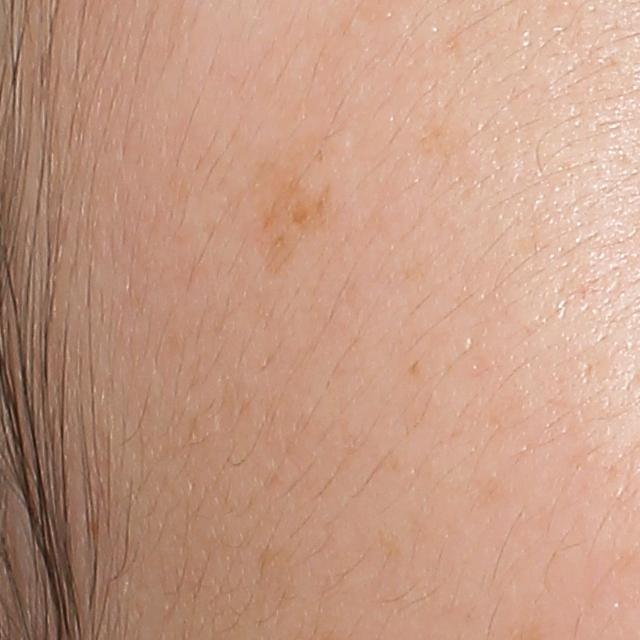melasma: (242, 135, 355, 272)
